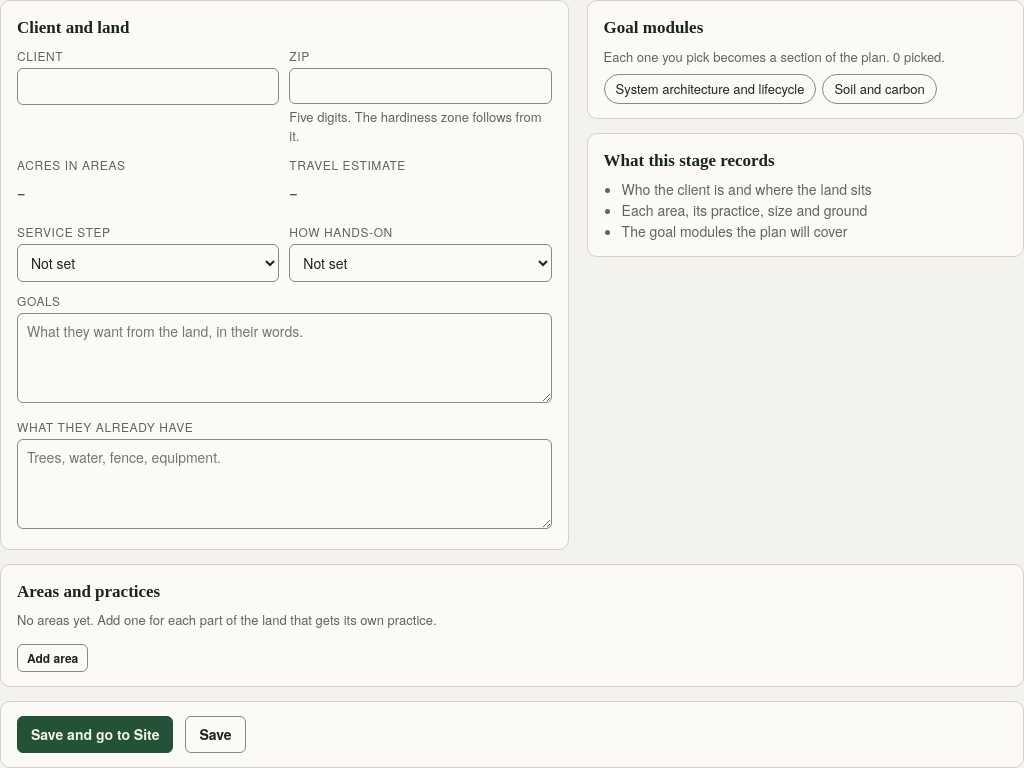
Scenario: IntakeForm › does not save an incomplete client and says what to fix
Type "384" into the field labelled "ZIP" at (420,86), box [289,68,552,104]
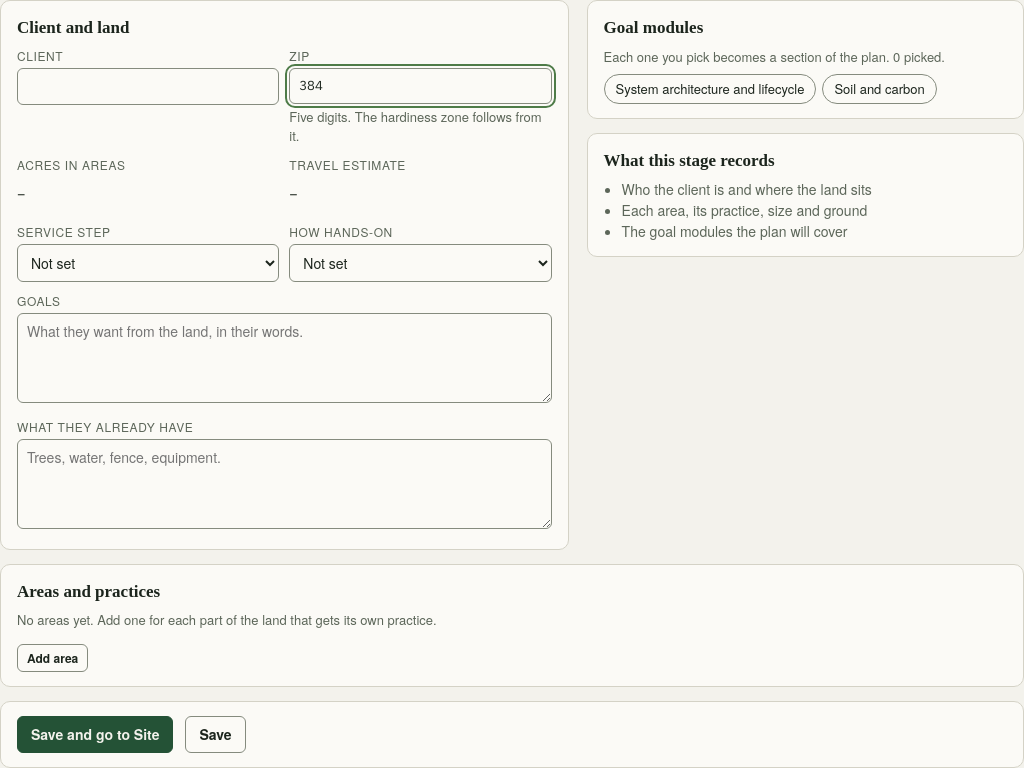
Click the button "Add area" at (53,658), box [17,644,88,672]
(page scrolled)
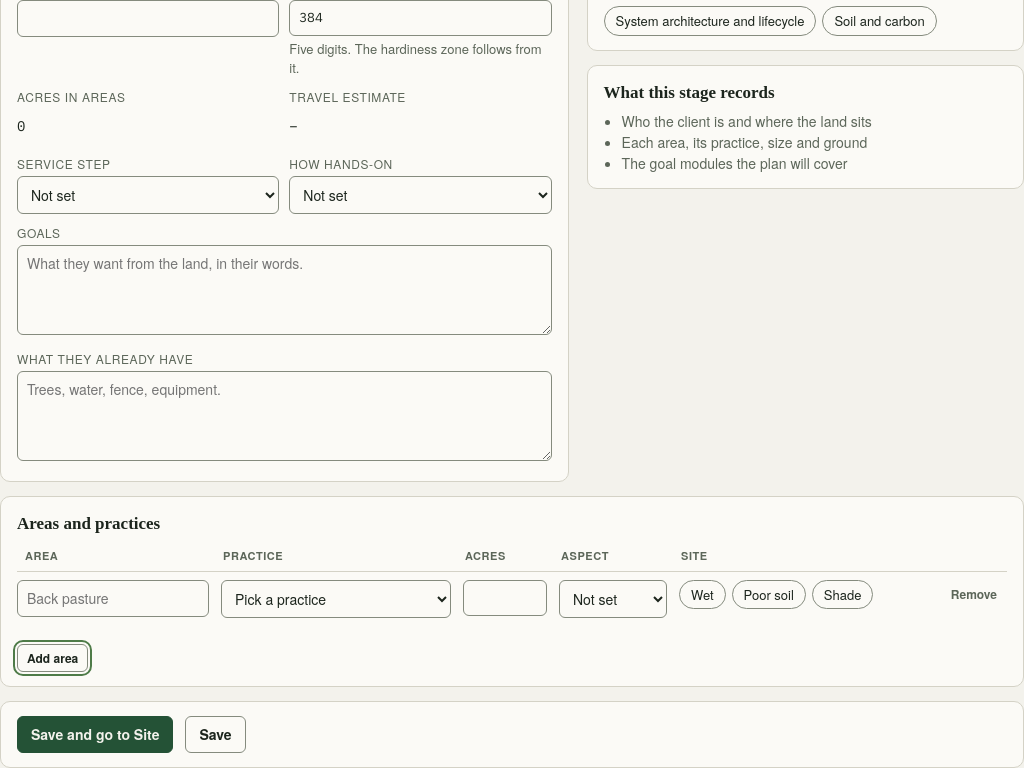
Click the button "Save" at (216,734), box [186,716,246,752]
(page scrolled)
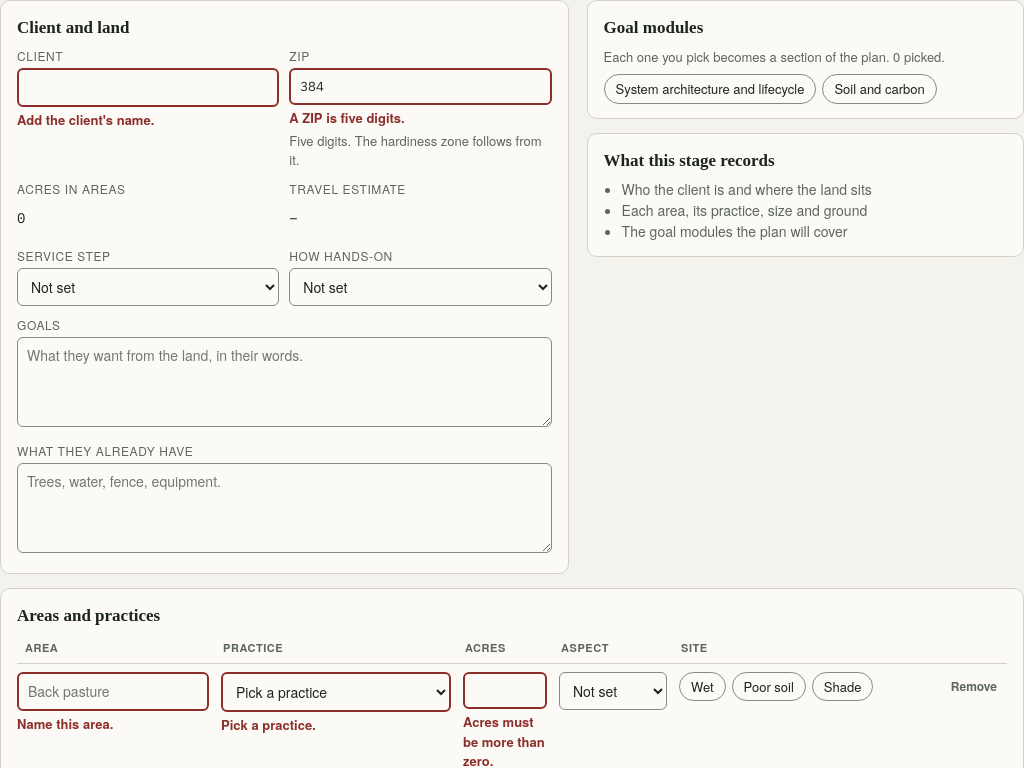
Expected: the text "Add the client's name." is shown, [17,110,154,128]
Expected: the text "A ZIP is five digits." is shown, [289,108,405,127]
